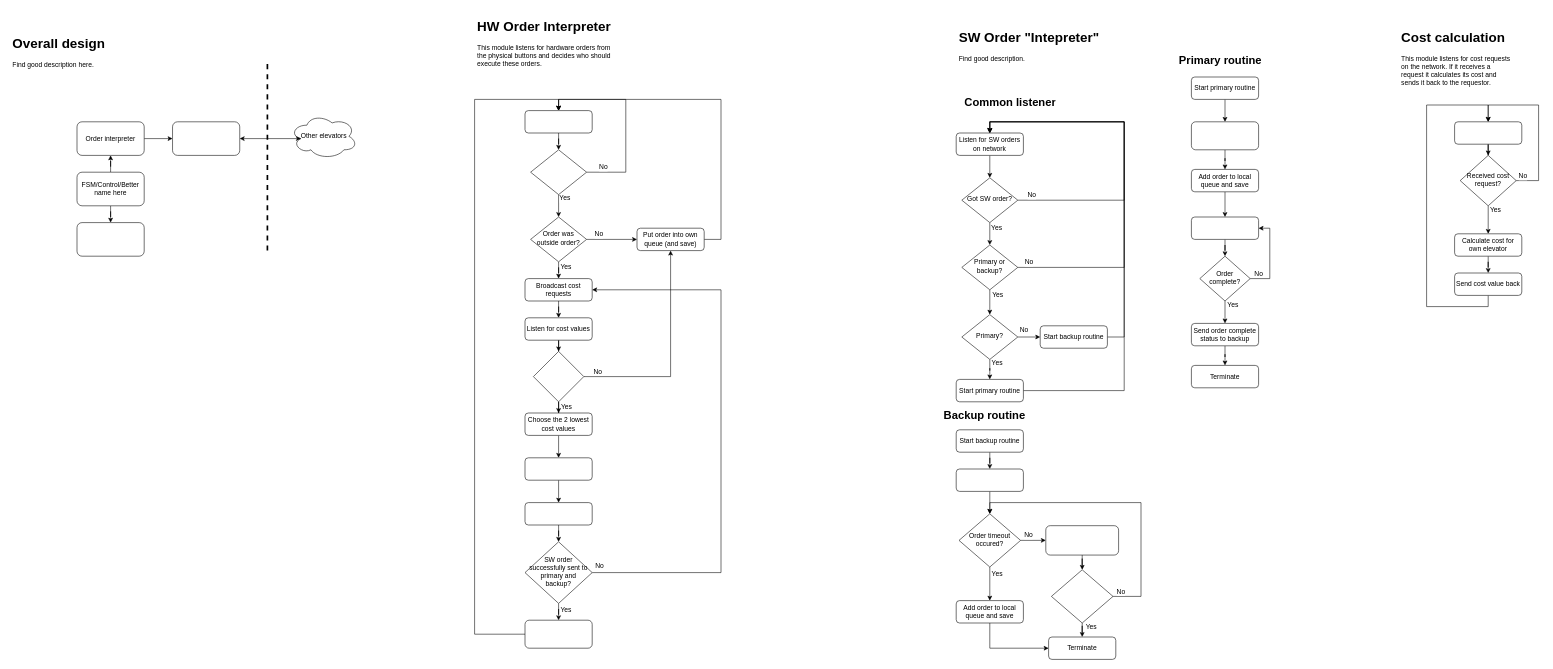
Some shapes in this 1553 by 669 pixel diagram are drawn without their labels. Each missing label, with the box of its shape:
Check for orders from hardware: (524, 110, 592, 133)
Got HW order?: (530, 149, 587, 195)
Got order complete status from primary?: (1051, 569, 1113, 623)
Hardware module: (76, 222, 144, 256)
Listen for cost request on network: (1454, 121, 1522, 144)
Listen for order complete status from primary: (1045, 525, 1119, 555)
Network interface: (172, 121, 240, 155)
Other elevators on network?: (533, 351, 584, 402)
Send receive acknowledge to order sender: (1191, 121, 1259, 150)
Send SW order to backup on network: (524, 502, 592, 525)
Send SW order to primary on network: (524, 457, 592, 480)
Start timeout timer: (956, 468, 1023, 491)
Status for HW order OK: (524, 620, 592, 648)
Wait for order to be completed: (1191, 216, 1259, 239)
